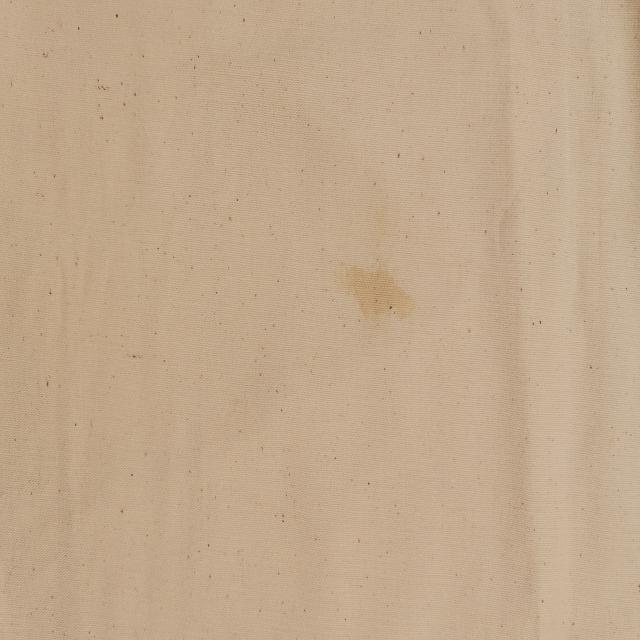taaaches: (335, 239, 415, 342)
